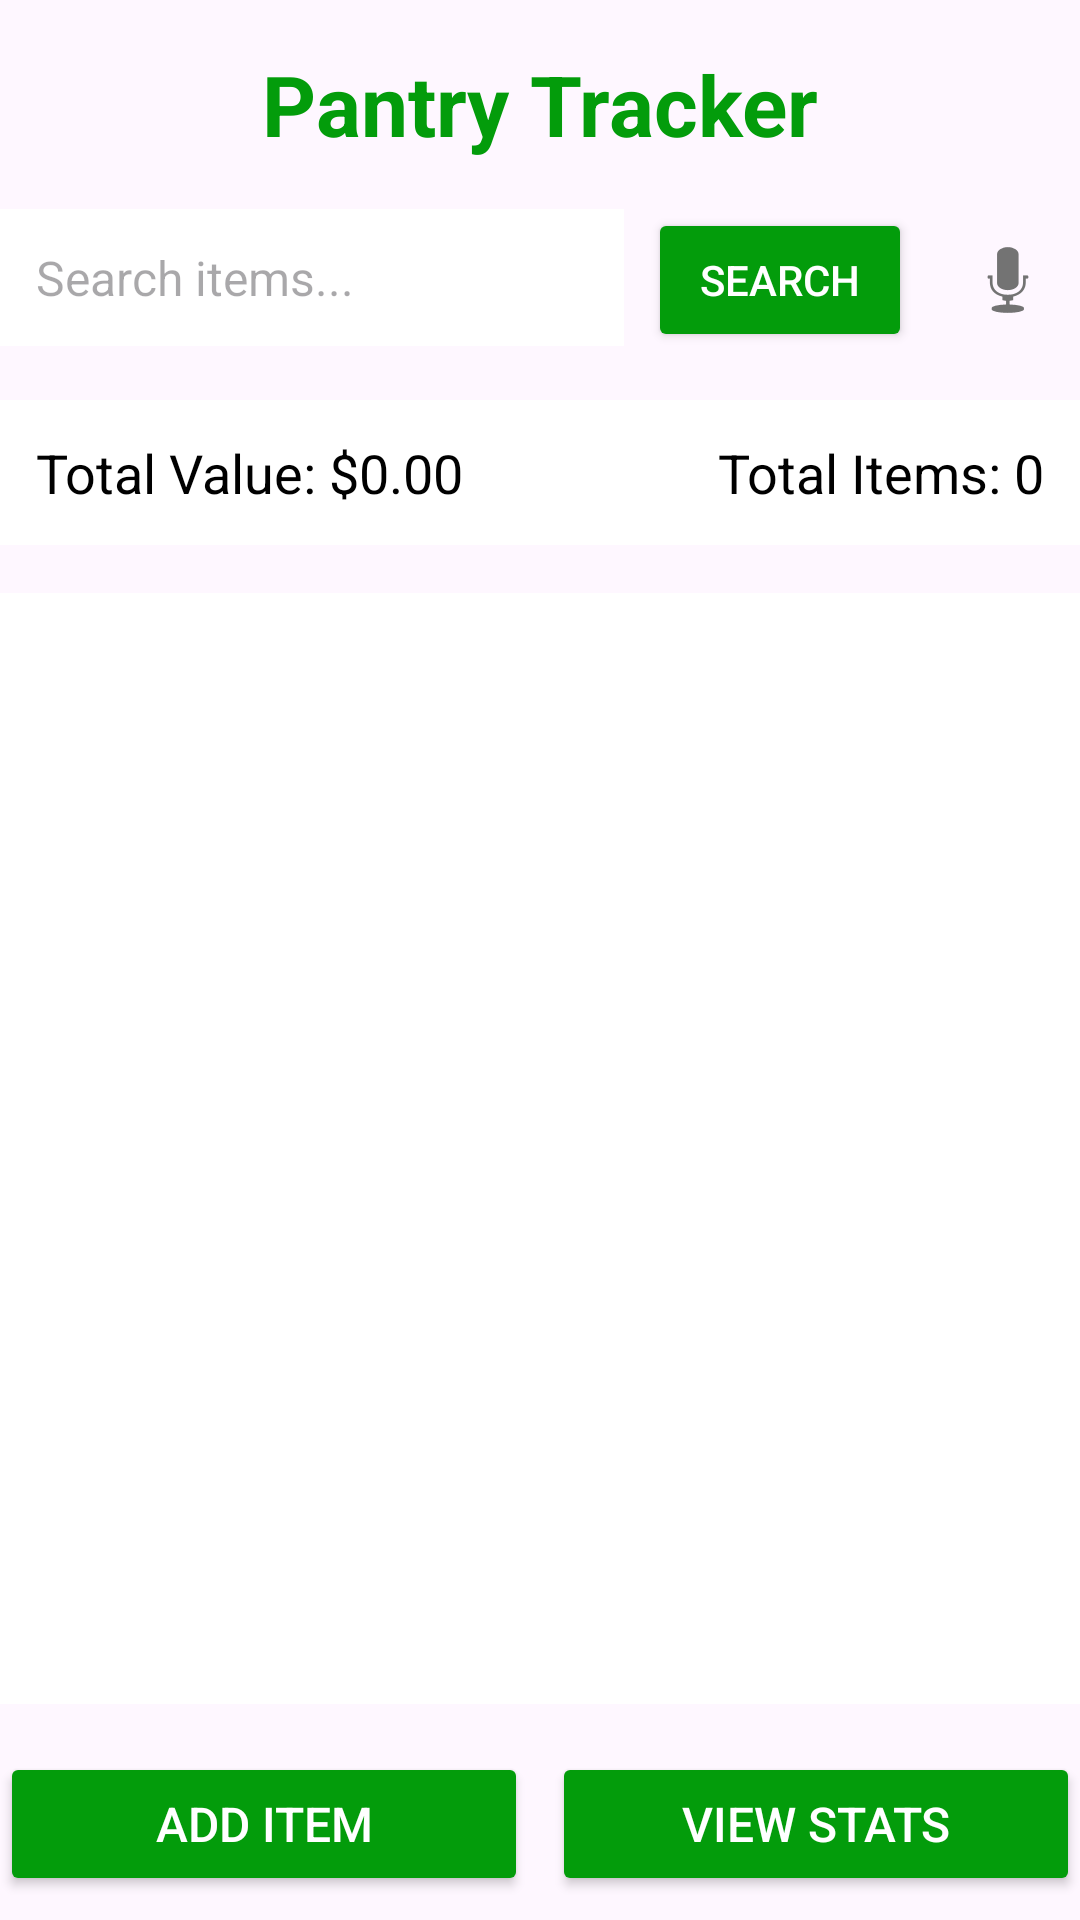

Named icons in this screenshot (1080x1920) and their bounding boxes, {"left": x1, "top": y1, "right": x2, "bottom": y2}:
Mic Button: {"left": 987, "top": 247, "right": 1029, "bottom": 313}
